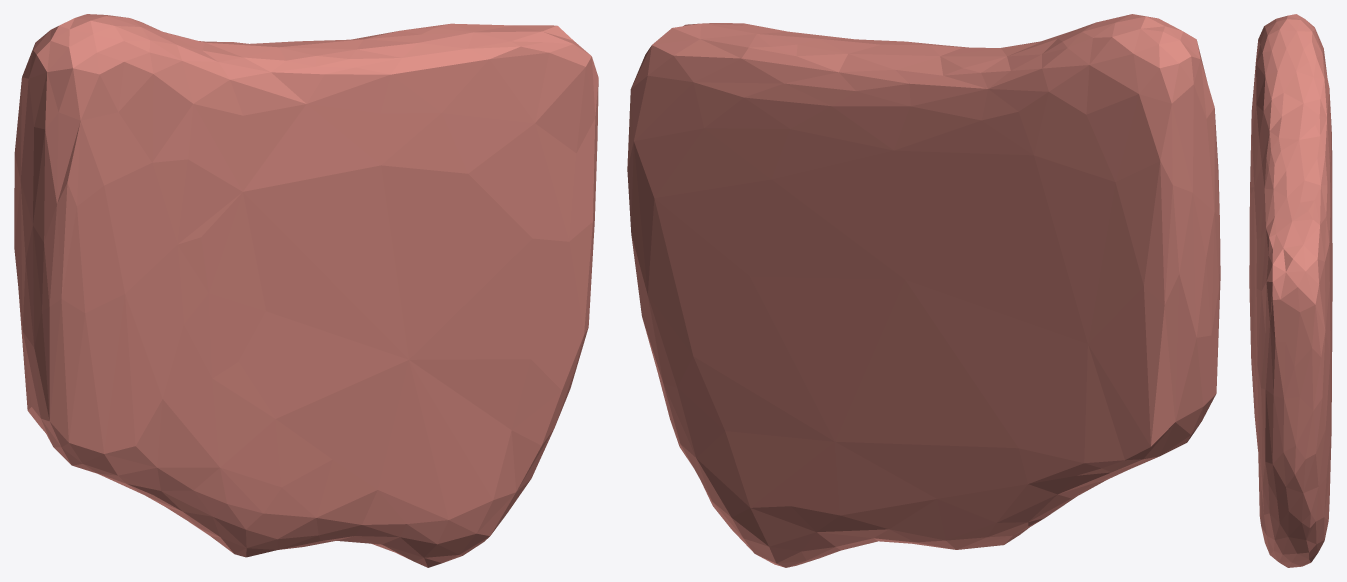
3 views of the same model, side by side, from view 1: azimuth 30°, elevation 25°; view 2: azimuth 150°, elevation 25°; view 3: azimuth 270°, elevation 25° (orthographic). The views are drawn at different scales.
Parts seen in each view (by area): view 1: 118.obj; view 2: 118.obj; view 3: 118.obj.
Boxes of the visible parts, x1=… form: 118.obj: x1=14, y1=14, x2=598, y2=567; 118.obj: x1=627, y1=14, x2=1220, y2=567; 118.obj: x1=1249, y1=14, x2=1332, y2=567.
Bounding box in the file's own units: 1242 × 1328 × 234.
